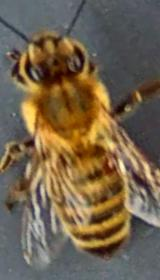varroa_mite: (95, 152, 124, 177)
